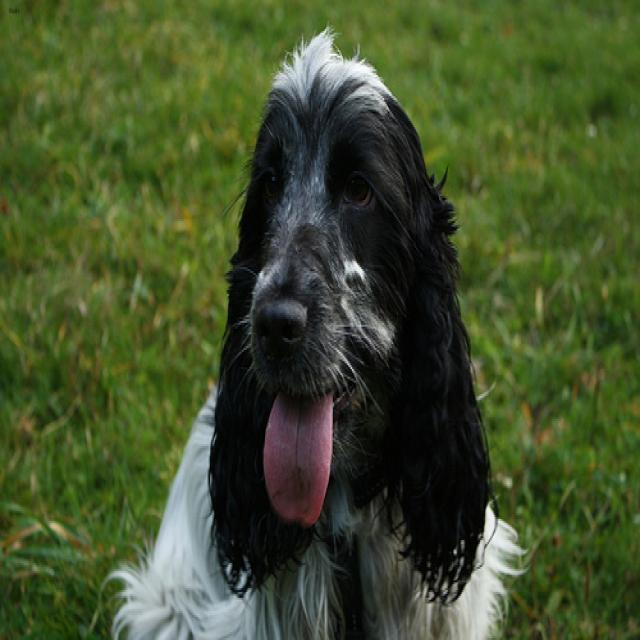dog-english_cocker_spaniel: (81, 21, 529, 636)
